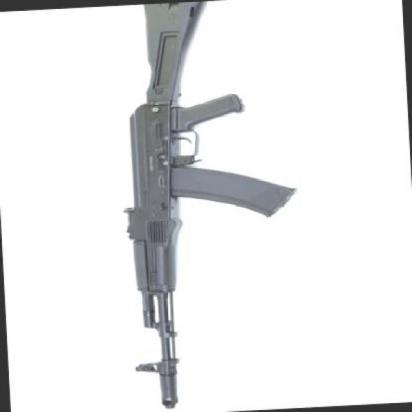Gun: (82, 0, 317, 410)
